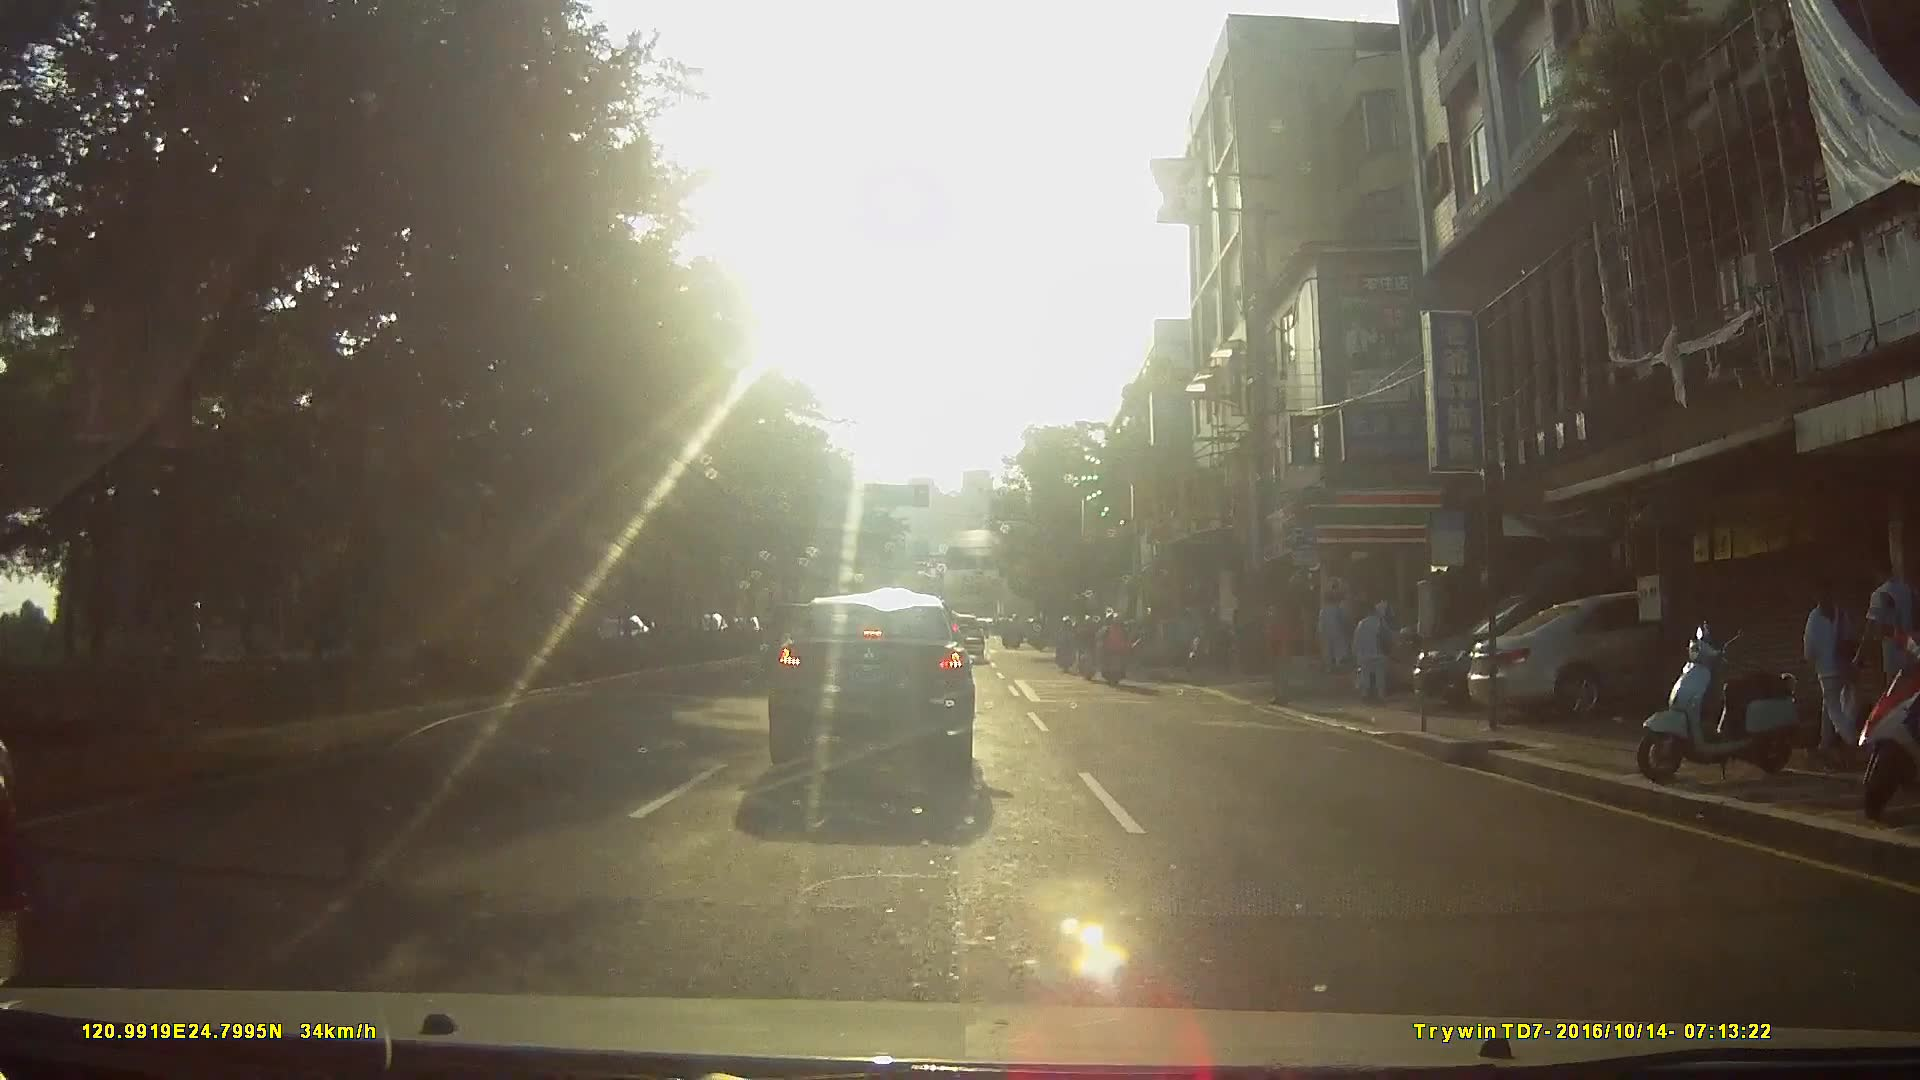pedestrian: (1855, 555, 1920, 760), (1804, 570, 1865, 755), (1348, 589, 1394, 699), (1264, 593, 1294, 701)
rider: (1096, 603, 1134, 683), (1074, 611, 1100, 681), (1055, 613, 1078, 675)
vehicle: (1458, 583, 1844, 721), (750, 577, 996, 778)
